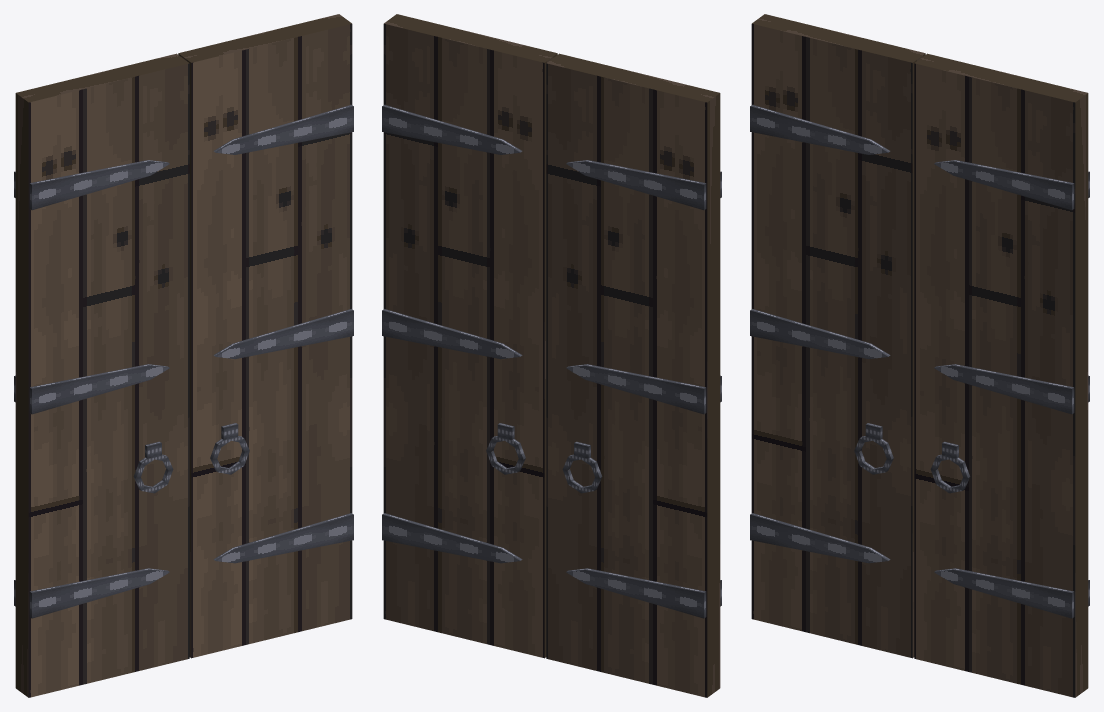
Rendered from door_normal.glb.
3 views of the same model, side by side, from view 1: azimuth 30°, elevation 25°; view 2: azimuth 150°, elevation 25°; view 3: azimuth 330°, elevation 25° (orthographic).
Parts seen in each view (by area): view 1: leaf_b, leaf_a; view 2: leaf_b, leaf_a; view 3: leaf_a, leaf_b.
Boxes of the visible parts, box(x1,y1,x2,y2) form: leaf_b: box(14, 53, 189, 697); leaf_a: box(178, 14, 353, 658); leaf_b: box(546, 53, 721, 697); leaf_a: box(382, 14, 557, 658); leaf_a: box(914, 53, 1089, 697); leaf_b: box(750, 14, 925, 658).
Size of the model in its own units: 1.99 by 3.5 by 0.19.
Materials: 1 (1 with a texture image).
